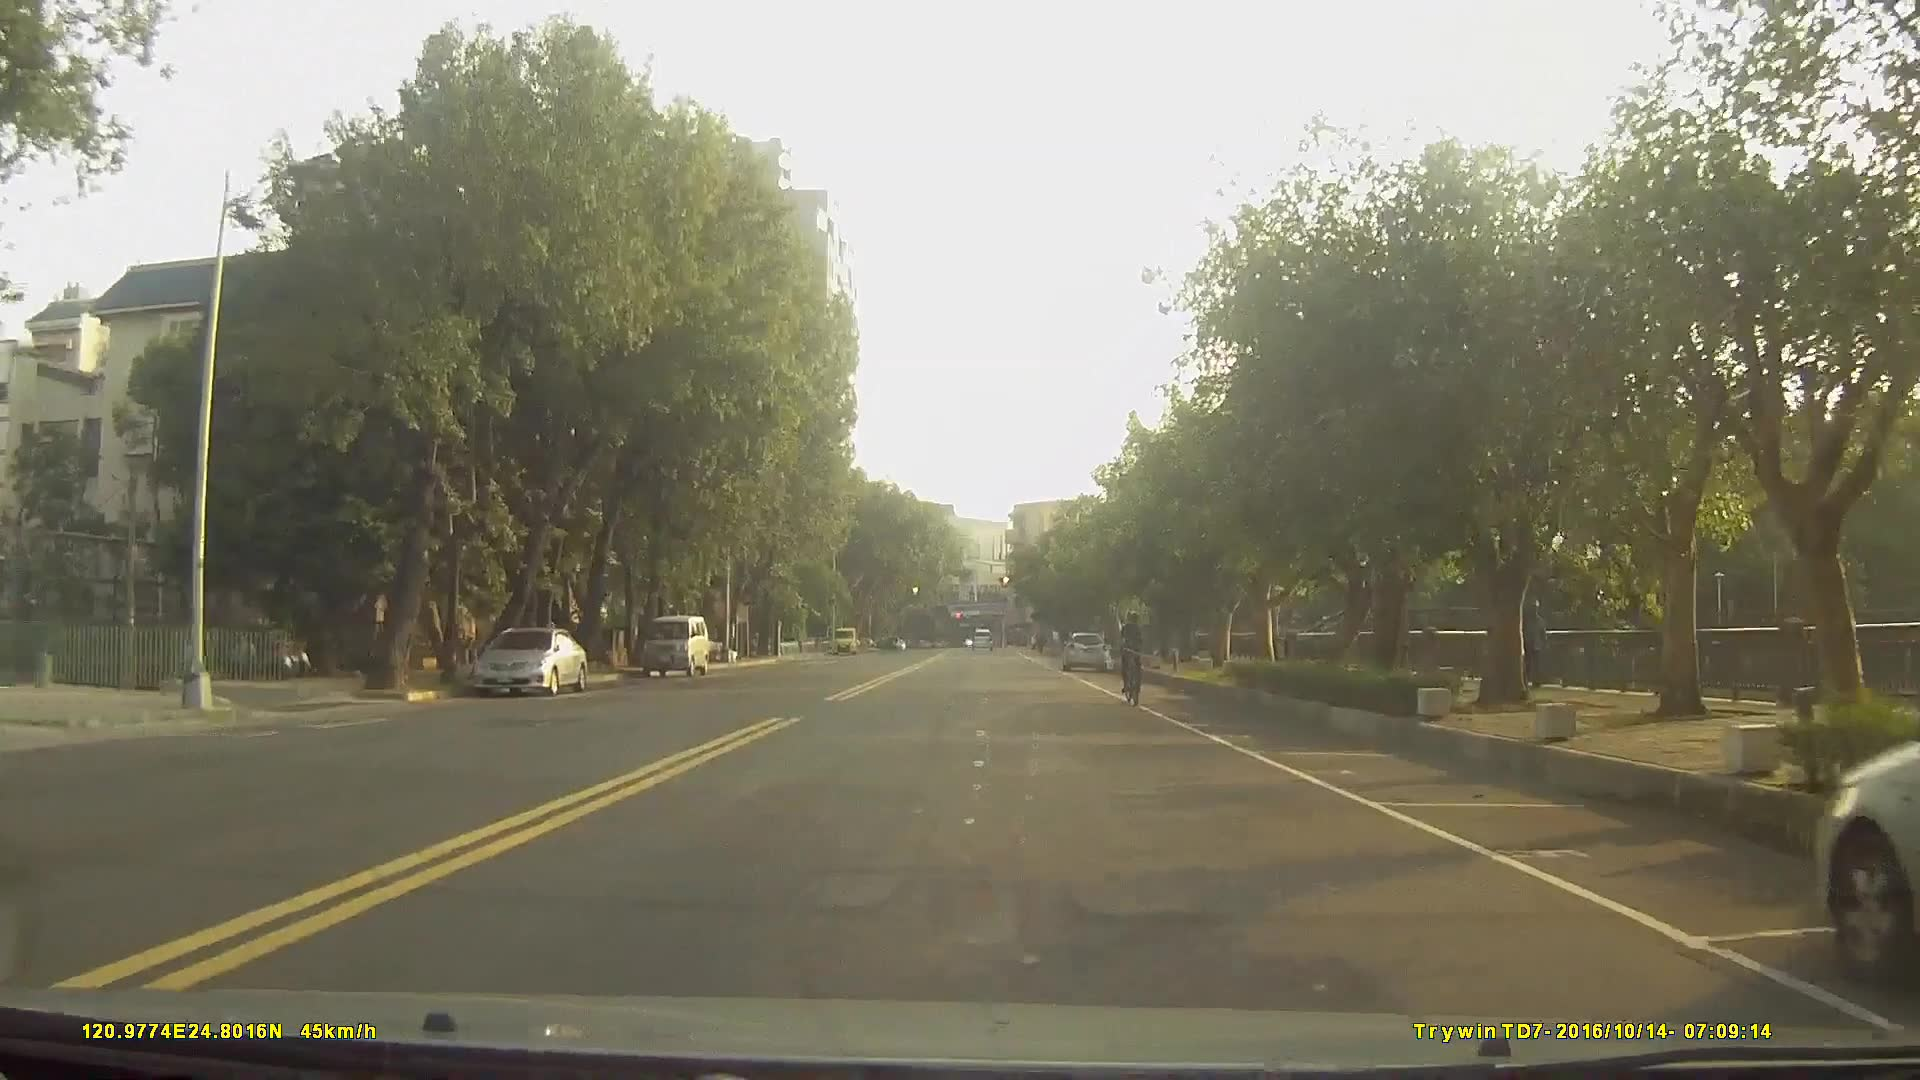rider: (1115, 613, 1149, 710)
vehicle: (1811, 730, 1920, 983), (468, 625, 586, 695), (639, 613, 711, 678), (1060, 629, 1110, 671), (969, 626, 994, 652)
